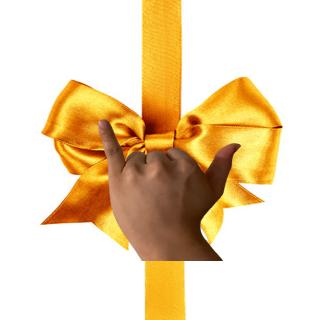HAVE: (93, 113, 241, 252)
